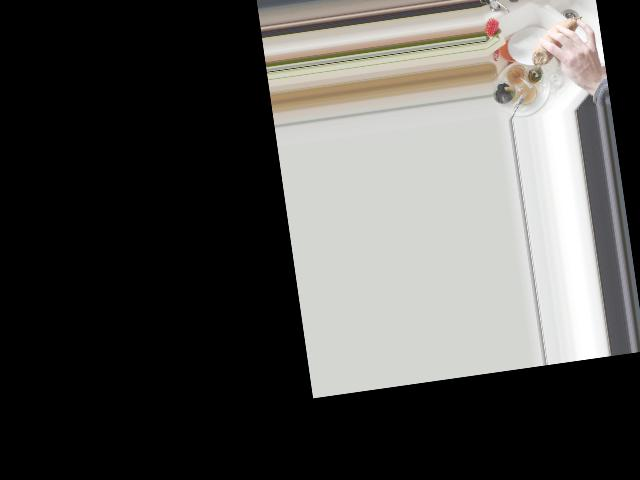sweet_potato: (528, 16, 588, 66)
